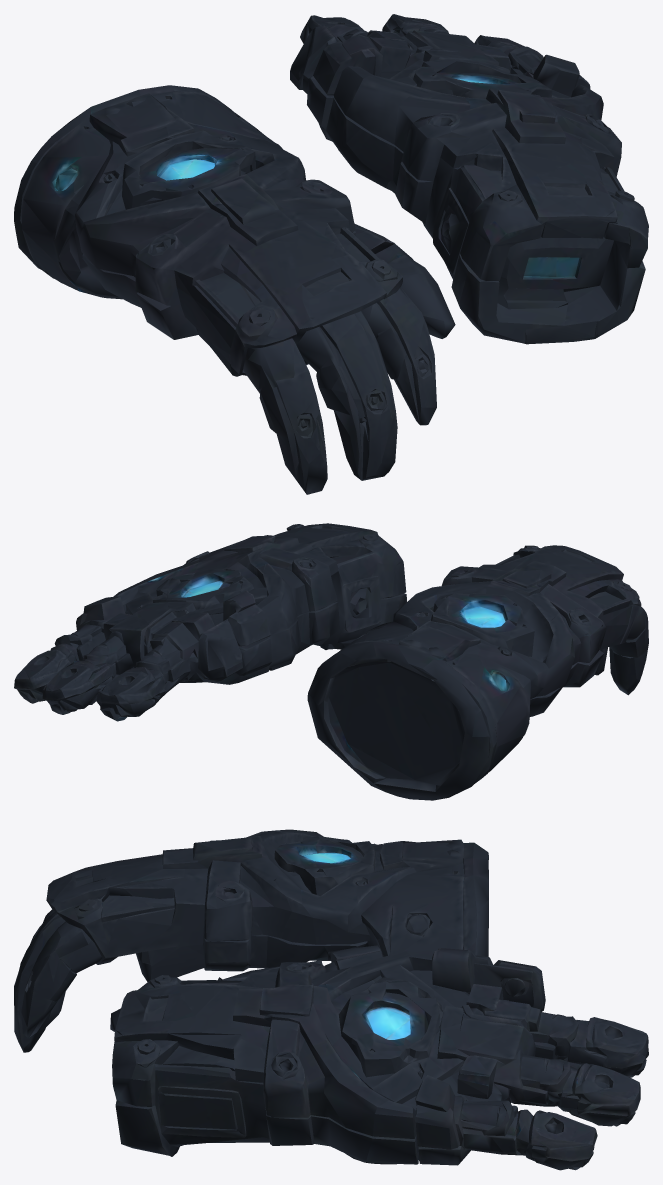
File: mx_gr_glove_shock.glb
3 renders of one model, top to bottom at view 1: azimuth 30°, elevation 25°; view 2: azimuth 150°, elevation 25°; view 3: azimuth 270°, elevation 25°, orthographic. The views are drawn at different scales.
Size of the model in its own units: 1.84 by 0.678 by 1.89.
1 material, 1 textured.
